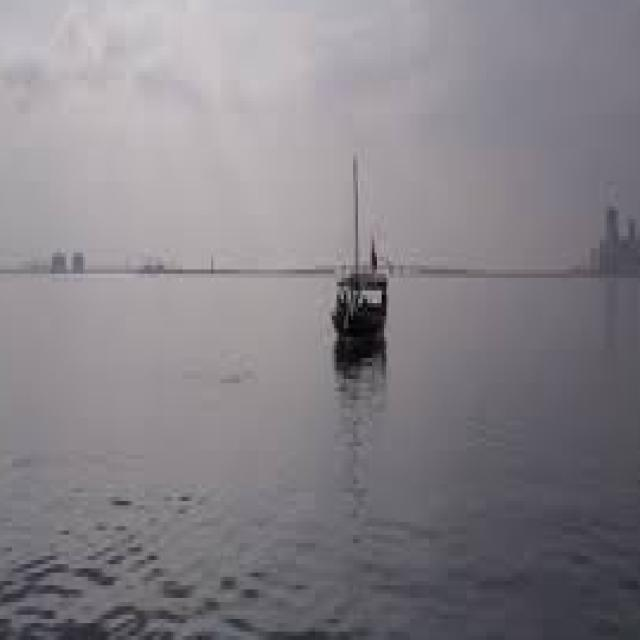fishing boat: (321, 130, 386, 356)
